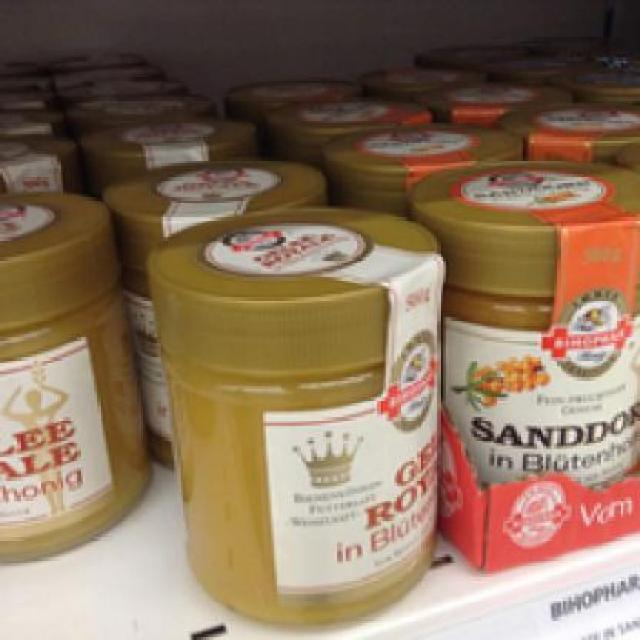Honey: (143, 208, 446, 618), (414, 163, 637, 532), (0, 186, 143, 572)
